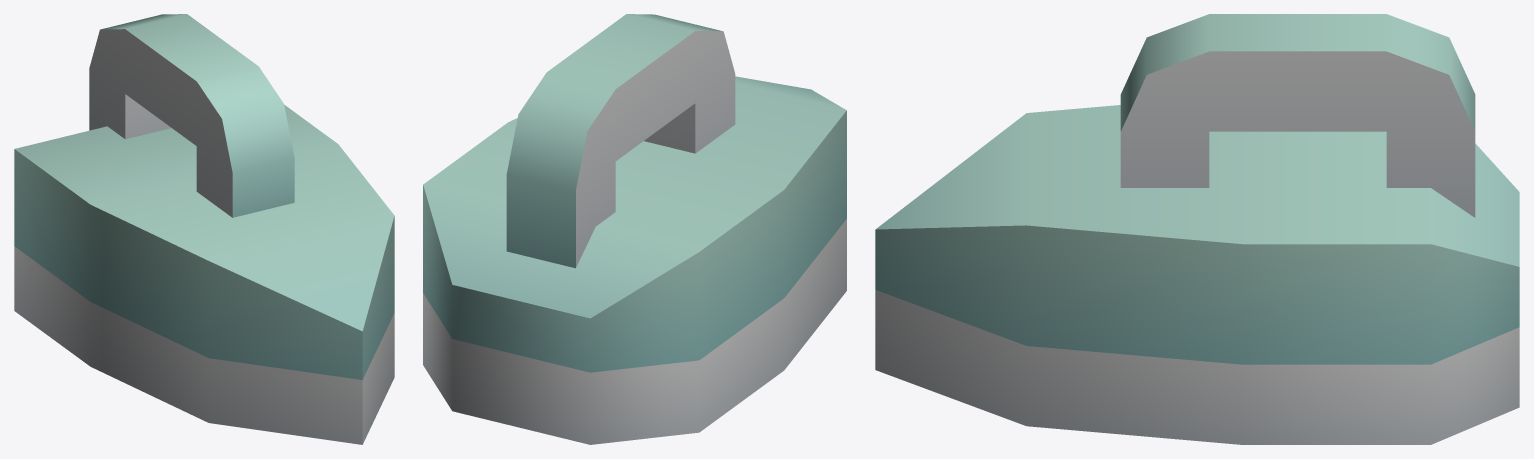
The model's file is iron_0.glb.
3 renders of one model, left to right at view 1: azimuth 30°, elevation 25°; view 2: azimuth 150°, elevation 25°; view 3: azimuth 270°, elevation 25°, orthographic. The views are drawn at different scales.
Visible parts, largest first — view 1: iron; view 2: iron; view 3: iron.
Part boxes in pixels (x1,y1,x2,y2): iron: [14, 14, 394, 444]; iron: [423, 14, 846, 444]; iron: [875, 14, 1519, 444].
Bounding box in the file's own units: 0.1532 × 0.1608 × 0.2784.
